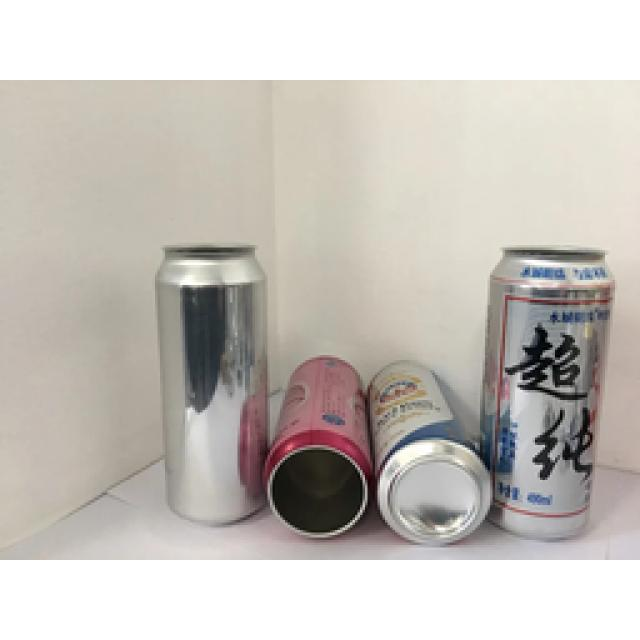aluminum_soda_cans: (493, 240, 602, 530), (157, 242, 263, 516), (370, 367, 477, 545), (275, 355, 363, 530)
